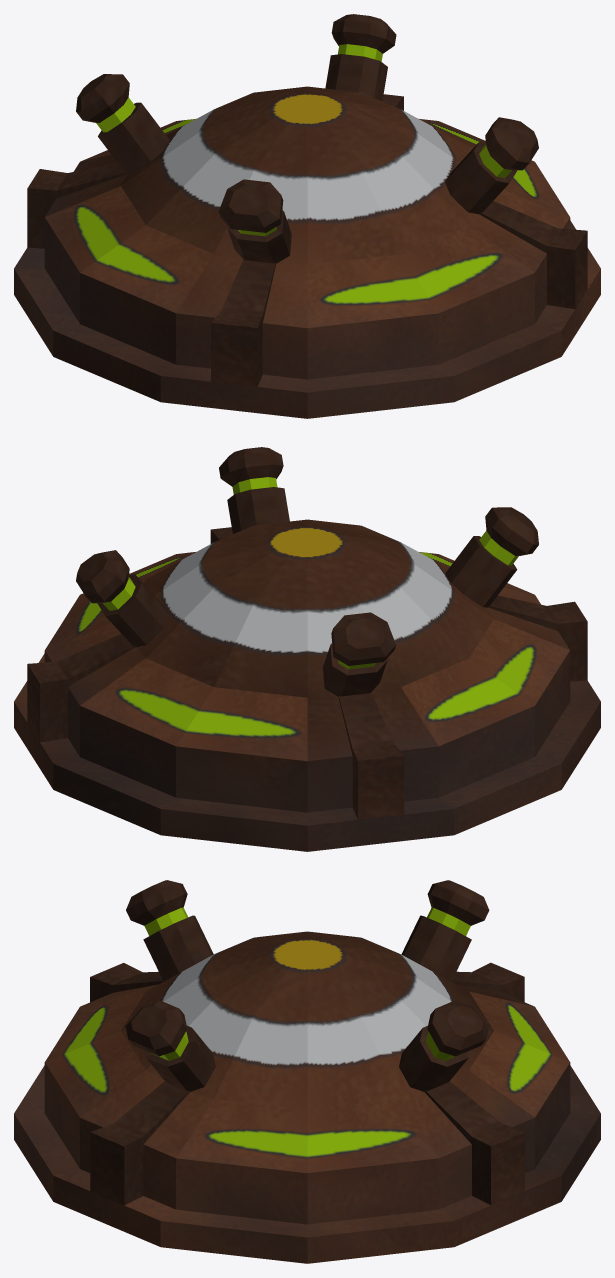
File: minachoque.fbx
3 renders of one model, top to bottom at view 1: azimuth 30°, elevation 25°; view 2: azimuth 150°, elevation 25°; view 3: azimuth 270°, elevation 25°, orthographic.
Visible parts, largest first — view 1: Cube; view 2: Cube; view 3: Cube.
Boxes of the visible parts, x1=… form: Cube: x1=14, y1=14, x2=600, y2=418; Cube: x1=14, y1=447, x2=600, y2=851; Cube: x1=14, y1=880, x2=600, y2=1263.
Size of the model in its own units: 509 by 186 by 509.
